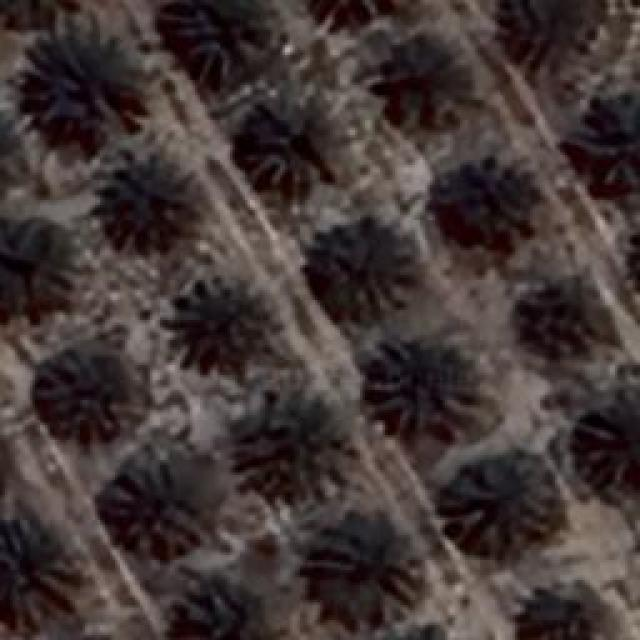PalmTree: (41, 13, 546, 63), (18, 28, 142, 132), (234, 92, 346, 206), (302, 511, 416, 614), (365, 332, 480, 432), (302, 224, 422, 318), (442, 458, 556, 540), (177, 270, 275, 360), (0, 517, 80, 625), (165, 0, 273, 80), (388, 39, 478, 129), (107, 460, 195, 552), (244, 411, 342, 489), (432, 166, 518, 249), (38, 352, 120, 438), (514, 278, 596, 362), (112, 170, 192, 255), (172, 577, 262, 640), (520, 577, 610, 640), (580, 102, 640, 186), (582, 402, 638, 490), (0, 222, 55, 306), (0, 98, 23, 198), (298, 0, 399, 22), (362, 622, 467, 640), (361, 624, 468, 640), (624, 205, 640, 304), (301, 0, 400, 15), (0, 98, 12, 196), (630, 208, 640, 304)
